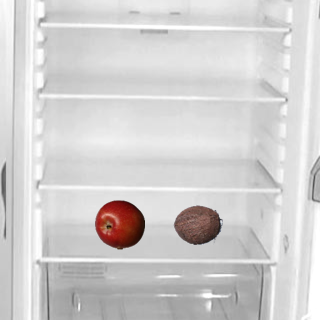Apple Braeburn: (94, 199, 144, 249)
Cocos: (172, 199, 222, 249)
